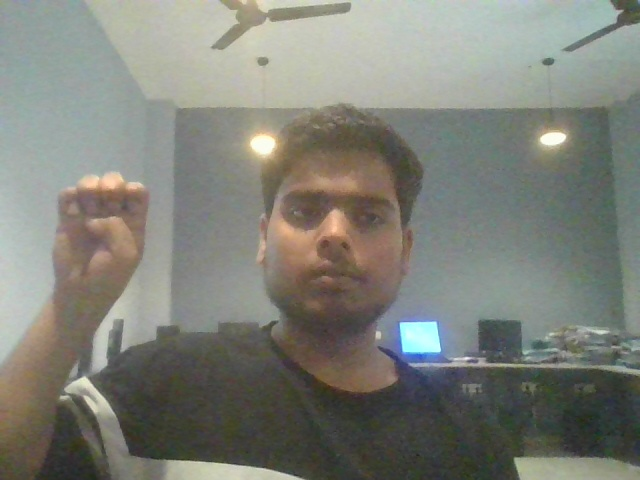E: (40, 149, 150, 337)
